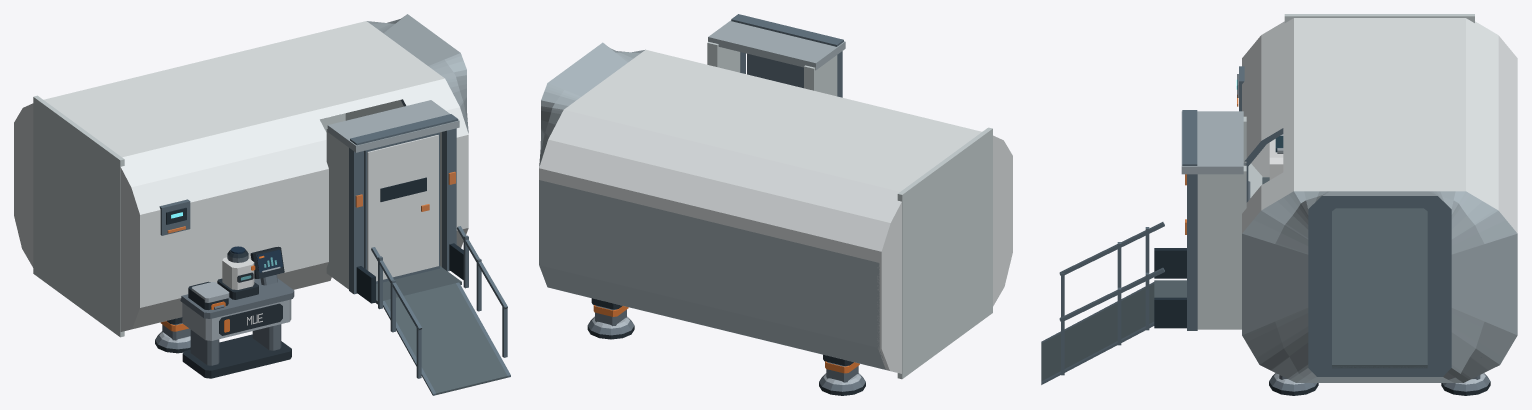
Rendered from lab_l01_transitable.glb.
The picture shows the model from 3 angles, left to right: view 1: azimuth 30°, elevation 25°; view 2: azimuth 150°, elevation 25°; view 3: azimuth 270°, elevation 25°; orthographic projection. The views are drawn at different scales.
Parts seen in each view (by area): view 1: LAB_L01_TR_CASCO_FRENTE, LAB_L01_TR_CASCO_CUPULA, LAB_L01_TR_TESTERO_CERRADO, LAB_L01_TR_HOJA, LAB_L01_TR_JAMBAS_Y_MARCO, LAB_L01_TR_RAMPA_ACCESO, LAB_L01_TR_ESTACION_ESTRUCTURA, LAB_L01_TR_CASCO_DORSO, LAB_L01_TR_DINTEL, LAB_L01_TR_CUELLO_CUPULA, LAB_L01_TR_BARANDILLAS, LAB_L01_TR_ESPECTROMETRO_CARCASA (+6 smaller); view 2: LAB_L01_TR_CASCO_BASE, LAB_L01_TR_CASCO_DORSO, LAB_L01_TR_TESTERO_CERRADO, LAB_L01_TR_CASCO_CUPULA, LAB_L01_TR_DINTEL, LAB_L01_TR_CUELLO_CUPULA, LAB_L01_TR_JAMBAS_Y_MARCO, LAB_L01_TR_ZAPATA_04, LAB_L01_TR_ZAPATA_02, LAB_L01_TR_HOJA, LAB_L01_TR_CUELLO_DORSO; view 3: LAB_L01_TR_CASCO_CUPULA, LAB_L01_TR_PISO_CONTINUO, LAB_L01_TR_CASCO_DORSO, LAB_L01_TR_CUELLO_FRENTE, LAB_L01_TR_CUELLO_BASE, LAB_L01_TR_JAMBAS_Y_MARCO, LAB_L01_TR_CASCO_FRENTE, LAB_L01_TR_CUELLO_DORSO, LAB_L01_TR_RAMPA_ACCESO, LAB_L01_TR_DINTEL, LAB_L01_TR_CUELLO_CUPULA, LAB_L01_TR_BARANDILLAS (+4 smaller).
Part boxes in pixels (x1=…): LAB_L01_TR_CASCO_FRENTE: x1=123, y1=88, x2=468, y2=328; LAB_L01_TR_CASCO_CUPULA: x1=57, y1=31, x2=449, y2=167; LAB_L01_TR_TESTERO_CERRADO: x1=14, y1=95, x2=143, y2=337; LAB_L01_TR_HOJA: x1=364, y1=132, x2=439, y2=283; LAB_L01_TR_JAMBAS_Y_MARCO: x1=326, y1=128, x2=463, y2=303; LAB_L01_TR_RAMPA_ACCESO: x1=383, y1=282, x2=510, y2=395; LAB_L01_TR_ESTACION_ESTRUCTURA: x1=180, y1=278, x2=294, y2=378; LAB_L01_TR_CASCO_DORSO: x1=43, y1=21, x2=379, y2=109; LAB_L01_TR_DINTEL: x1=327, y1=100, x2=459, y2=152; LAB_L01_TR_CUELLO_CUPULA: x1=380, y1=14, x2=466, y2=87; LAB_L01_TR_BARANDILLAS: x1=371, y1=226, x2=507, y2=378; LAB_L01_TR_ESPECTROMETRO_CARCASA: x1=217, y1=246, x2=258, y2=299; LAB_L01_TR_CASCO_BASE: x1=539, y1=180, x2=890, y2=371; LAB_L01_TR_CASCO_DORSO: x1=539, y1=99, x2=914, y2=262; LAB_L01_TR_TESTERO_CERRADO: x1=877, y1=127, x2=1012, y2=379; LAB_L01_TR_CASCO_CUPULA: x1=578, y1=50, x2=981, y2=181; LAB_L01_TR_DINTEL: x1=708, y1=14, x2=845, y2=70; LAB_L01_TR_CUELLO_CUPULA: x1=545, y1=42, x2=645, y2=99; LAB_L01_TR_JAMBAS_Y_MARCO: x1=707, y1=41, x2=842, y2=97; LAB_L01_TR_ZAPATA_04: x1=587, y1=298, x2=634, y2=339; LAB_L01_TR_ZAPATA_02: x1=819, y1=354, x2=865, y2=395; LAB_L01_TR_HOJA: x1=747, y1=53, x2=803, y2=88; LAB_L01_TR_CUELLO_DORSO: x1=539, y1=88, x2=577, y2=167; LAB_L01_TR_CASCO_CUPULA: x1=1283, y1=18, x2=1435, y2=196; LAB_L01_TR_PISO_CONTINUO: x1=1154, y1=177, x2=1481, y2=368; LAB_L01_TR_CASCO_DORSO: x1=1436, y1=18, x2=1517, y2=232; LAB_L01_TR_CUELLO_FRENTE: x1=1242, y1=197, x2=1332, y2=382; LAB_L01_TR_CUELLO_BASE: x1=1319, y1=246, x2=1517, y2=382; LAB_L01_TR_JAMBAS_Y_MARCO: x1=1154, y1=116, x2=1246, y2=330; LAB_L01_TR_CASCO_FRENTE: x1=1242, y1=24, x2=1283, y2=233; LAB_L01_TR_CUELLO_DORSO: x1=1427, y1=191, x2=1517, y2=260; LAB_L01_TR_RAMPA_ACCESO: x1=1041, y1=282, x2=1154, y2=384; LAB_L01_TR_DINTEL: x1=1181, y1=110, x2=1243, y2=174; LAB_L01_TR_CUELLO_CUPULA: x1=1283, y1=191, x2=1442, y2=236; LAB_L01_TR_BARANDILLAS: x1=1059, y1=222, x2=1164, y2=375.
Bounding box in the file's own units: 5.66 × 3.2 × 5.98.
